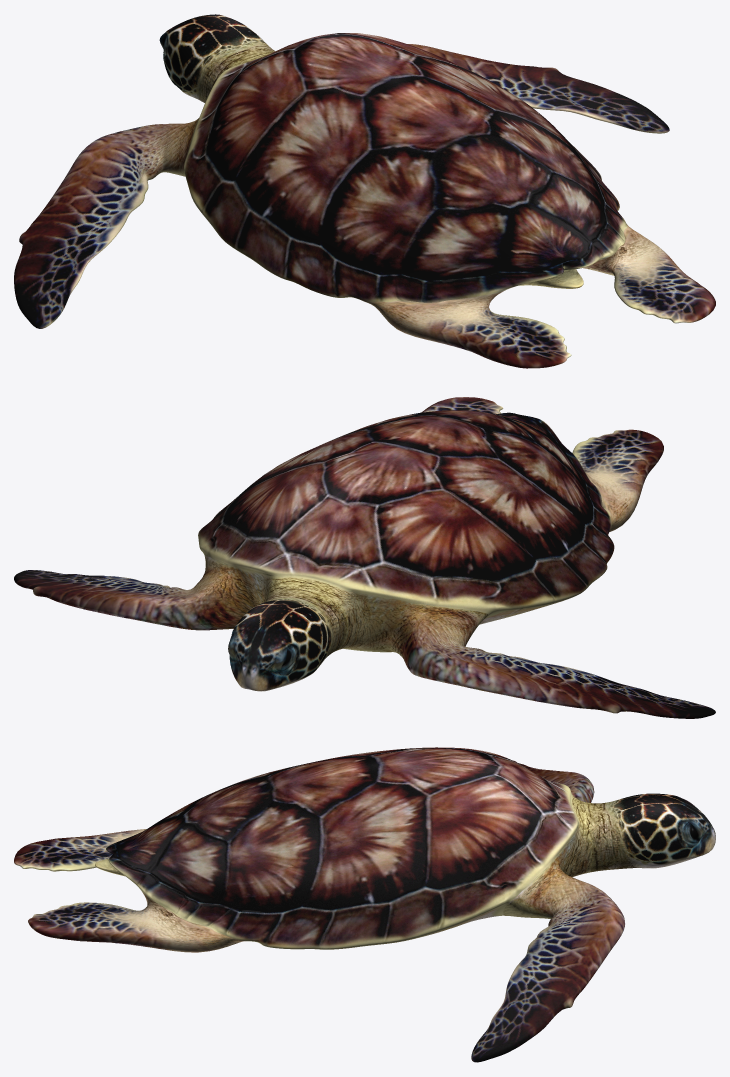
File: turtle.obj
3 renders of one model, top to bottom at view 1: azimuth 30°, elevation 25°; view 2: azimuth 150°, elevation 25°; view 3: azimuth 270°, elevation 25°, orthographic. The views are drawn at different scales.
Parts seen in each view (by area): view 1: 10042_Sea_Turtle_V2_iterations-2.001; view 2: 10042_Sea_Turtle_V2_iterations-2.001; view 3: 10042_Sea_Turtle_V2_iterations-2.001.
Boxes of the visible parts, x1=… form: 10042_Sea_Turtle_V2_iterations-2.001: x1=14, y1=14, x2=715, y2=368; 10042_Sea_Turtle_V2_iterations-2.001: x1=14, y1=397, x2=715, y2=718; 10042_Sea_Turtle_V2_iterations-2.001: x1=14, y1=747, x2=715, y2=1062.
Size of the model in its own units: 65.97 by 17.14 by 66.79.
1 material, 1 textured.
